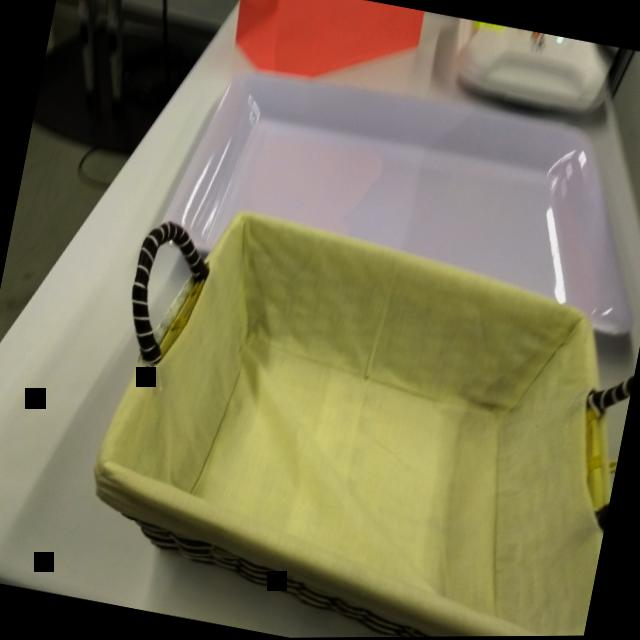basket: (69, 187, 640, 640)
tray: (159, 50, 640, 370)
